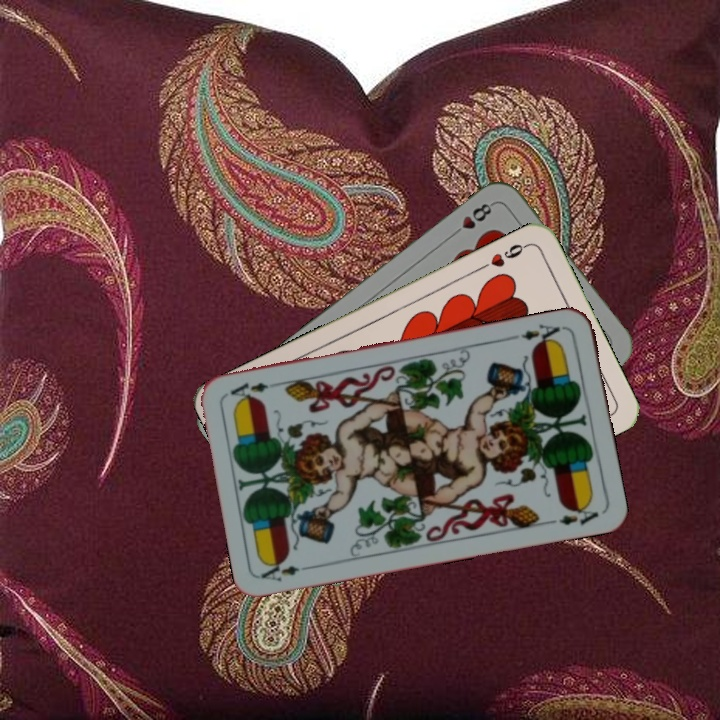EA: (508, 320, 563, 349), (258, 557, 317, 584)
H8: (447, 198, 496, 240)
H9: (476, 239, 532, 272)
